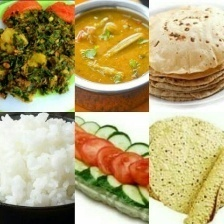roti: (149, 2, 223, 109)
